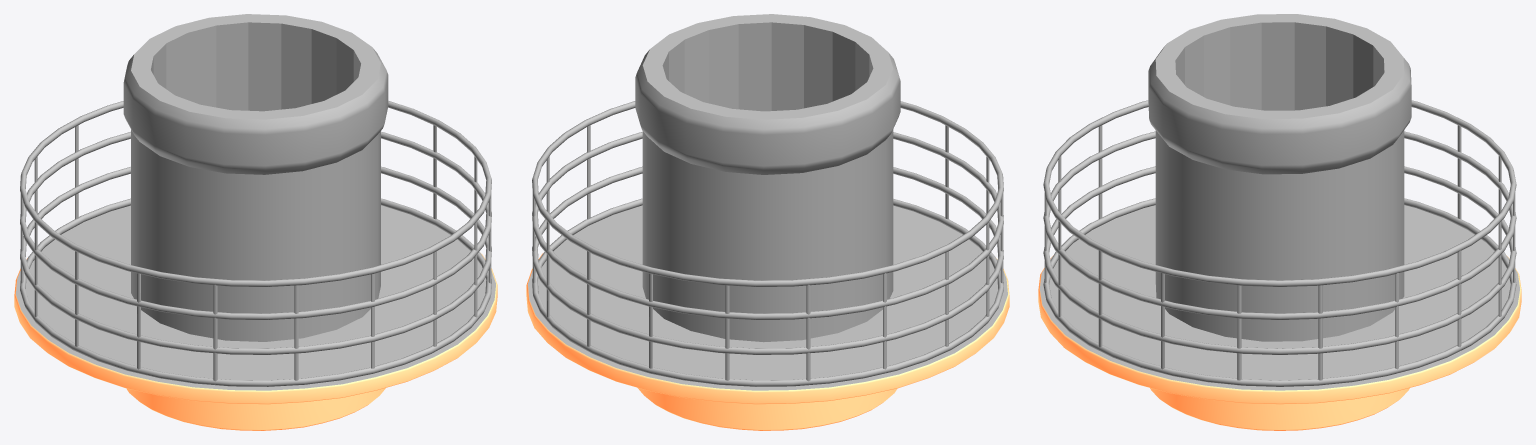
File: SM_CircleFloor.fbx
3 renders of one model, left to right at view 1: azimuth 30°, elevation 25°; view 2: azimuth 150°, elevation 25°; view 3: azimuth 270°, elevation 25°, orthographic.
Visible parts, largest first — view 1: SM_CircleFloor_LOD0; view 2: SM_CircleFloor_LOD0; view 3: SM_CircleFloor_LOD0.
Boxes of the visible parts, x1,y1,x2,y2 form: SM_CircleFloor_LOD0: (14,14,497,430); SM_CircleFloor_LOD0: (526,14,1009,430); SM_CircleFloor_LOD0: (1038,14,1521,430).
Bounding box in the file's own units: 520 × 520 × 366.
